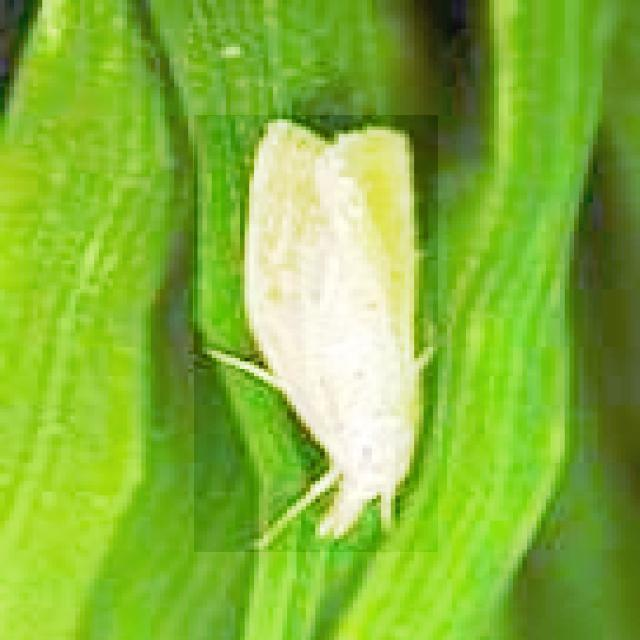stem-borer: (194, 115, 438, 552)
